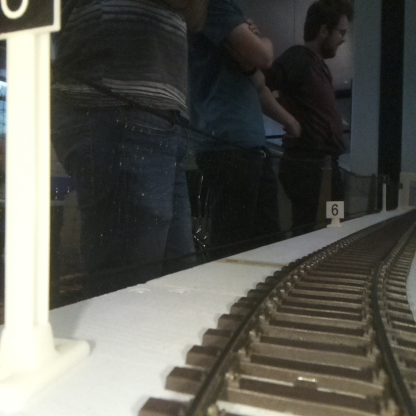white-stop-6: (326, 200, 343, 227)
